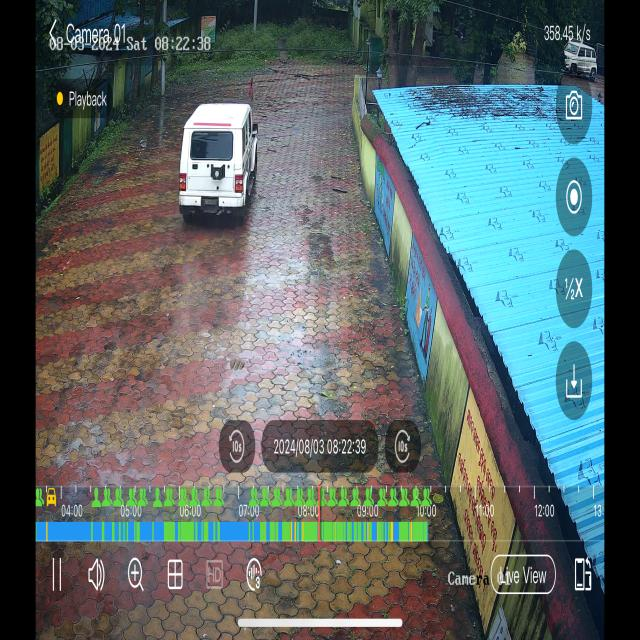light_vehicle: (175, 92, 257, 212)
